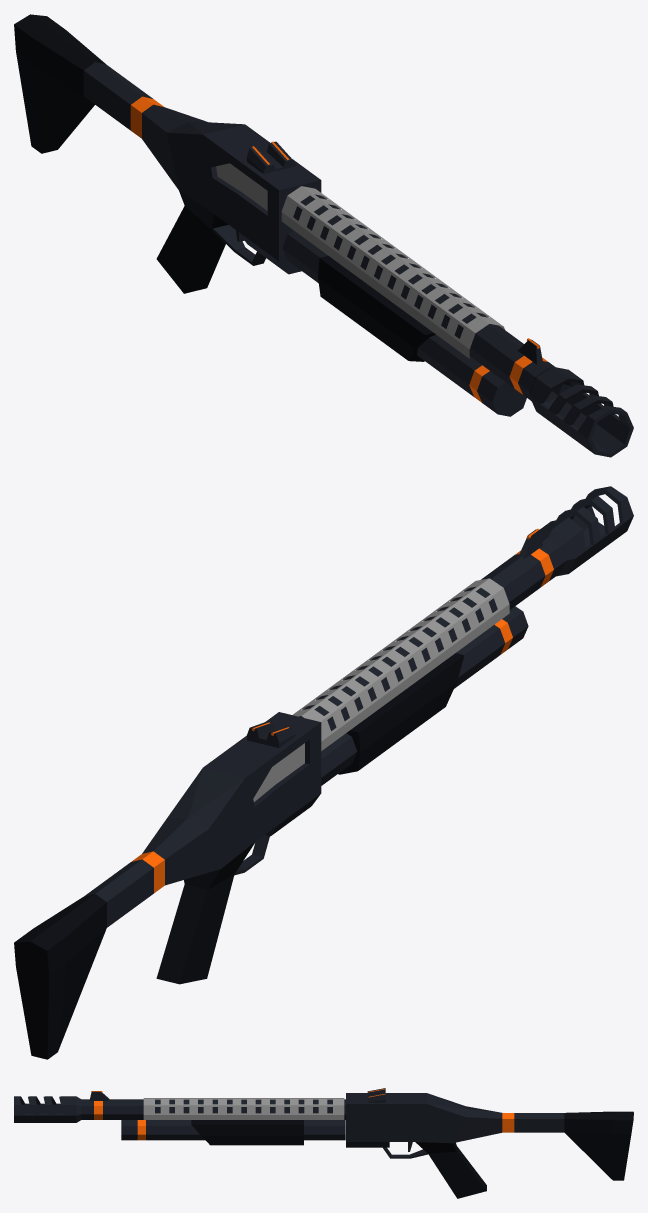
3 views of the same model, one above another, from view 1: azimuth 30°, elevation 25°; view 2: azimuth 150°, elevation 25°; view 3: azimuth 270°, elevation 25° (orthographic). The views are drawn at different scales.
Parts seen in each view (by area): view 1: M471A2; view 2: M471A2; view 3: M471A2.
Boxes of the visible parts, <box> form: M471A2: <box>14,14,633,457</box>; M471A2: <box>14,486,633,1059</box>; M471A2: <box>14,1088,633,1198</box>.
Bounding box in the file's own units: 4.42 × 18.07 × 96.93.
